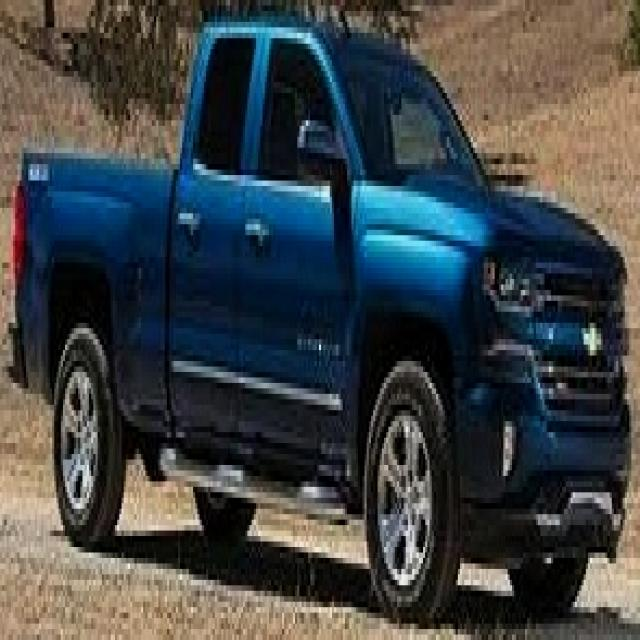blue: (6, 0, 622, 618)
